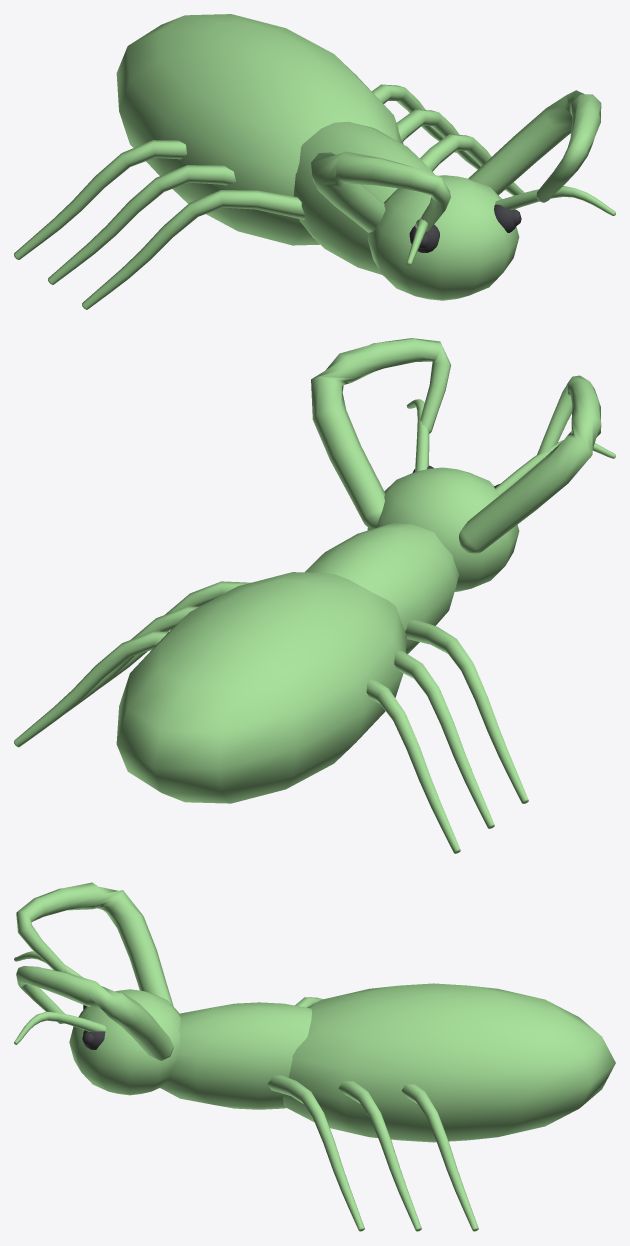
The model's file is reptiles-amphibians-and-minibeasts-praying-mantis-f56ddbfd__22455.glb.
3 renders of one model, top to bottom at view 1: azimuth 30°, elevation 25°; view 2: azimuth 150°, elevation 25°; view 3: azimuth 270°, elevation 25°, orthographic. The views are drawn at different scales.
Visible parts, largest first — view 1: praying-mantis; view 2: praying-mantis; view 3: praying-mantis.
Boxes of the visible parts, x1=… form: praying-mantis: x1=14, y1=14, x2=615, y2=309; praying-mantis: x1=14, y1=338, x2=615, y2=853; praying-mantis: x1=14, y1=882, x2=615, y2=1231.
Bounding box in the file's own units: 0.0645 × 0.0348 × 0.09.
